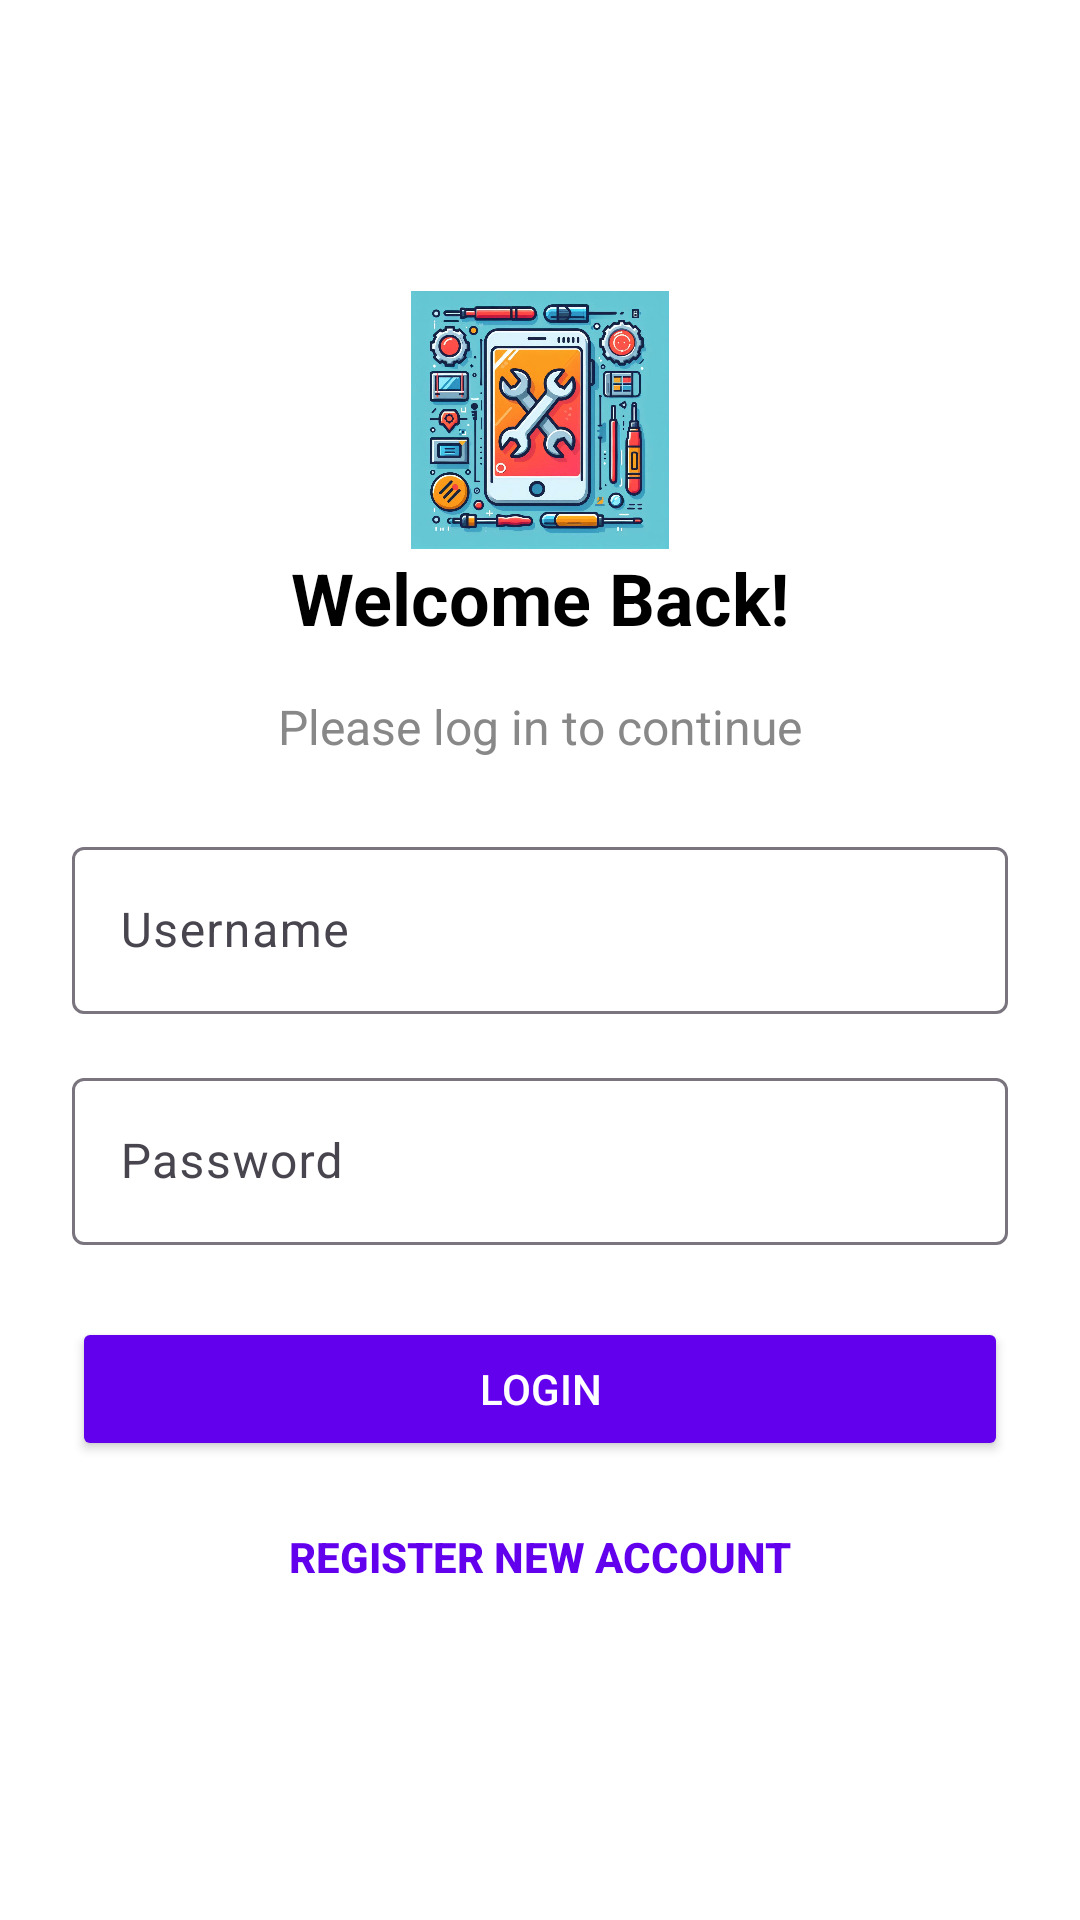

Where icons sit on this 1080 x 1920 app screen, as (x1, y1, x2, y2):
movileservice: (411, 291, 669, 549)
